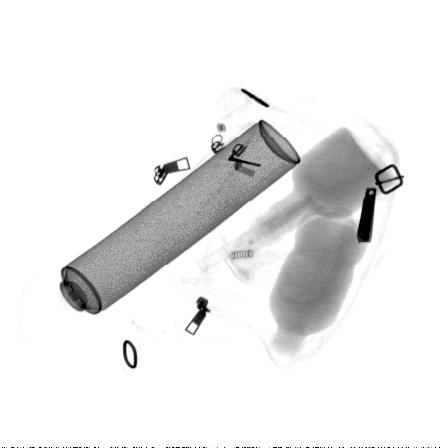Sprayer: (37, 119, 302, 334)
